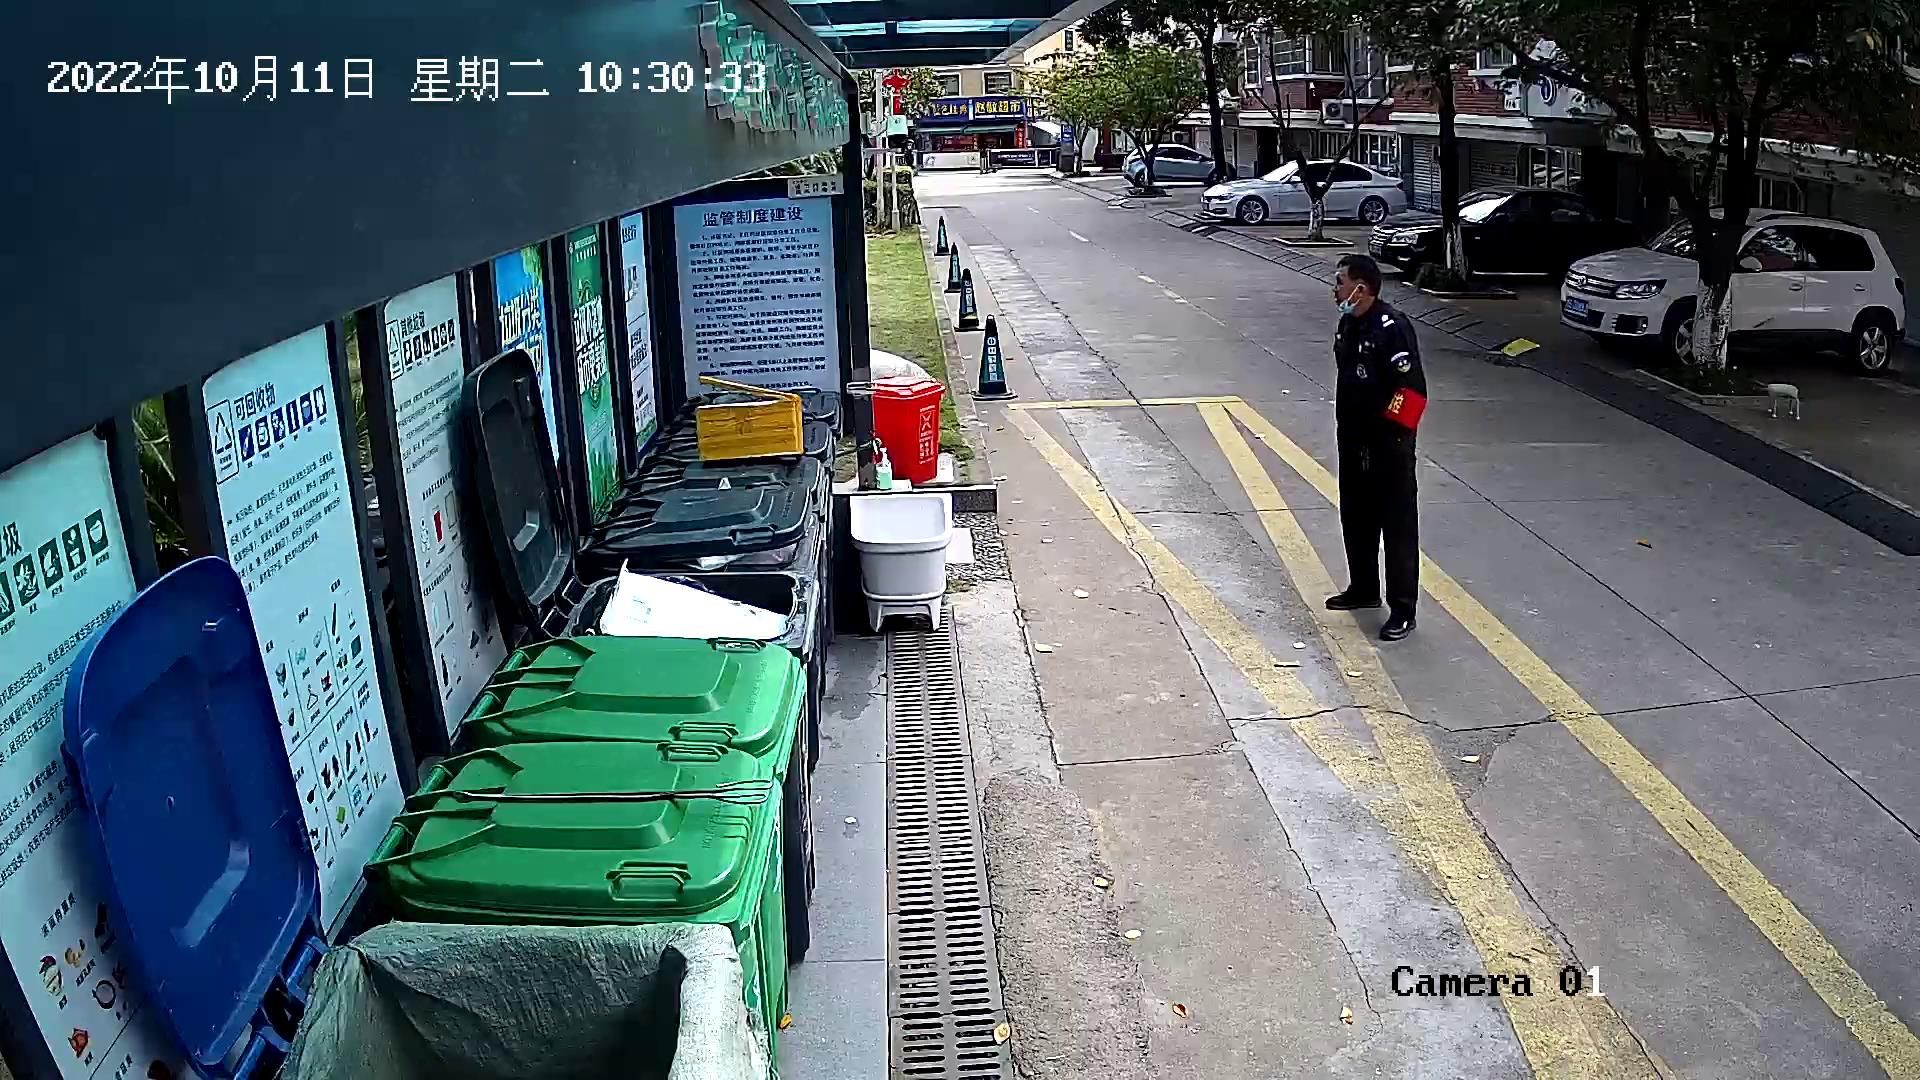worker: (1305, 249, 1438, 653)
